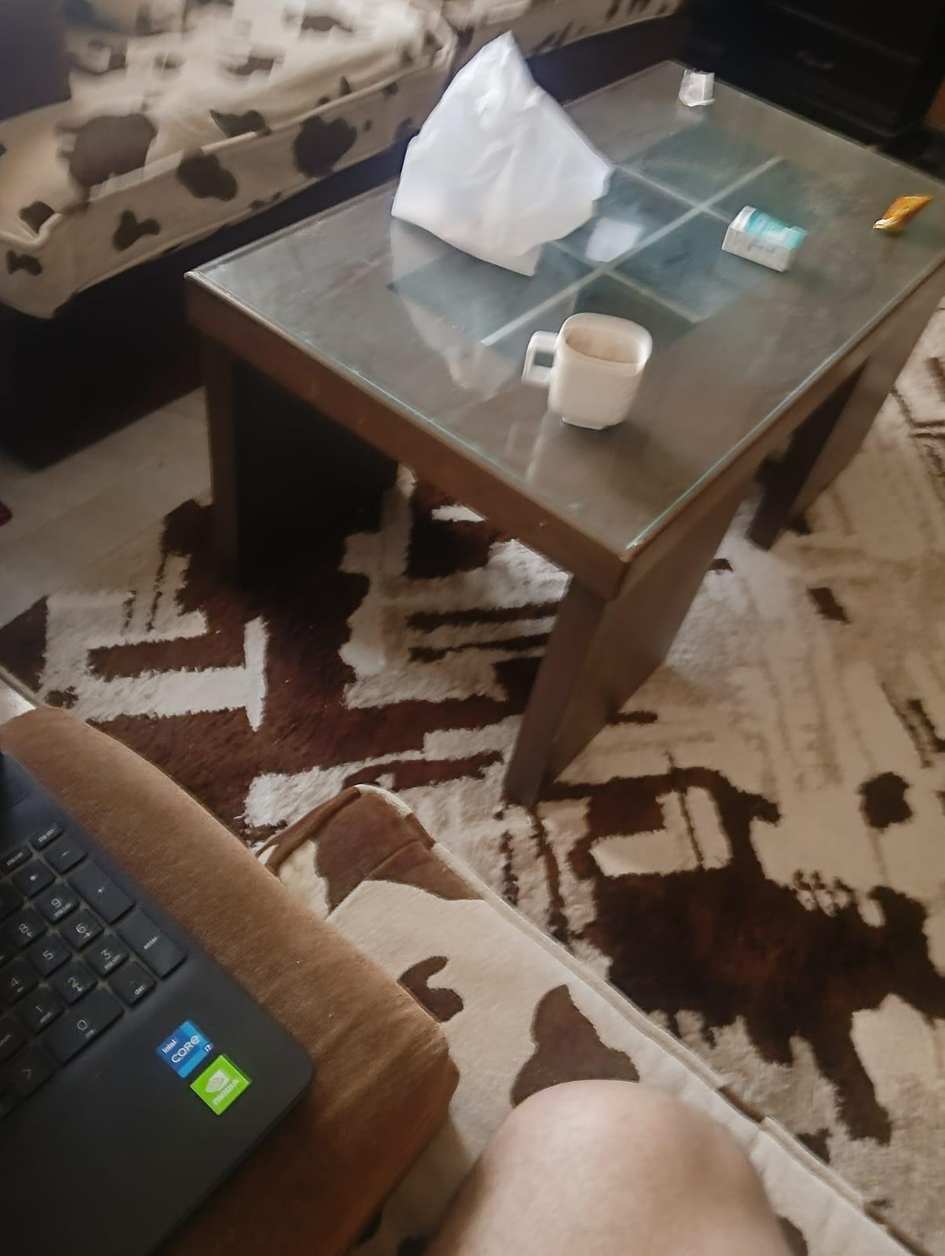cup: (523, 313, 651, 429)
